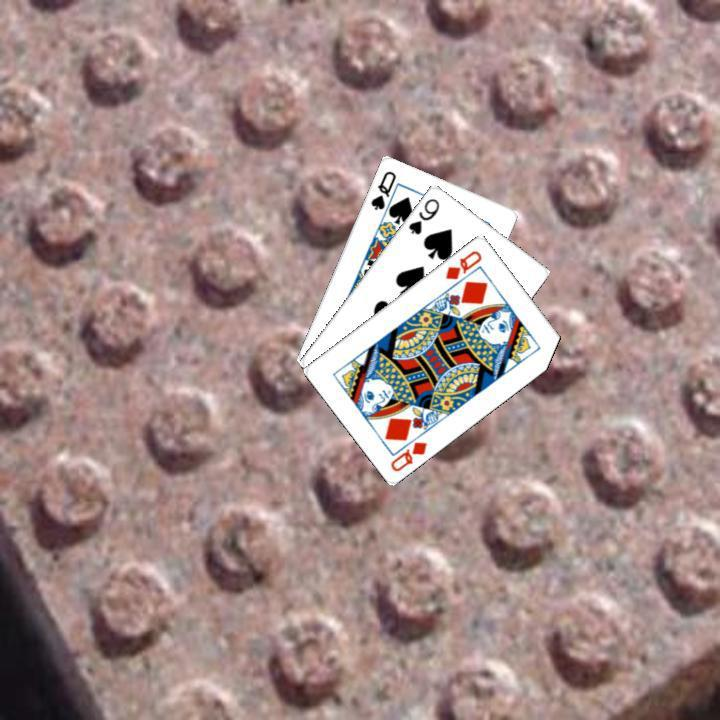9: (404, 193, 441, 236)
Q: (386, 437, 429, 473), (441, 246, 484, 281), (366, 166, 398, 212)
